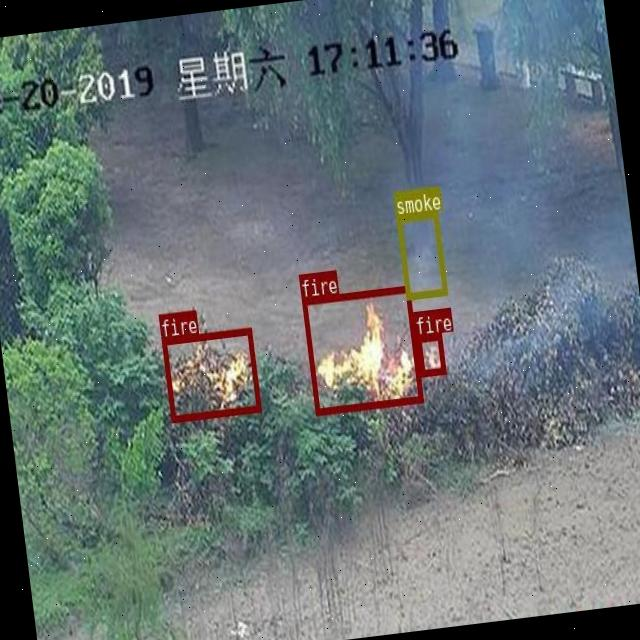fire: (302, 284, 422, 413), (160, 327, 260, 421), (414, 332, 446, 377)
smoke: (396, 210, 446, 298)
